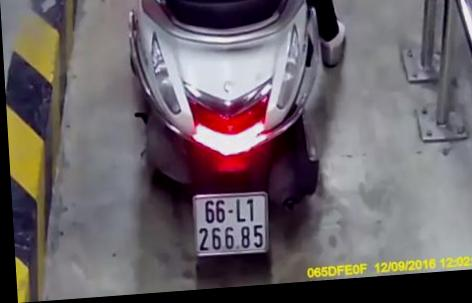License_Plate: (186, 183, 275, 262)
